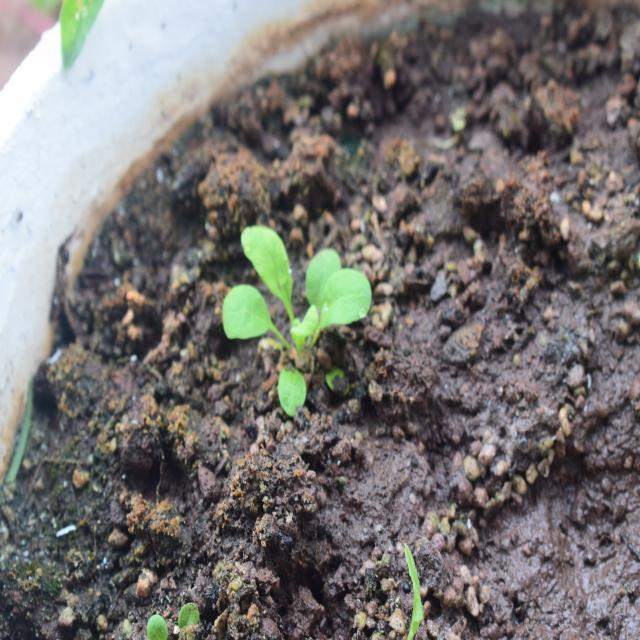Shepherd_Purse: (202, 204, 358, 370)
